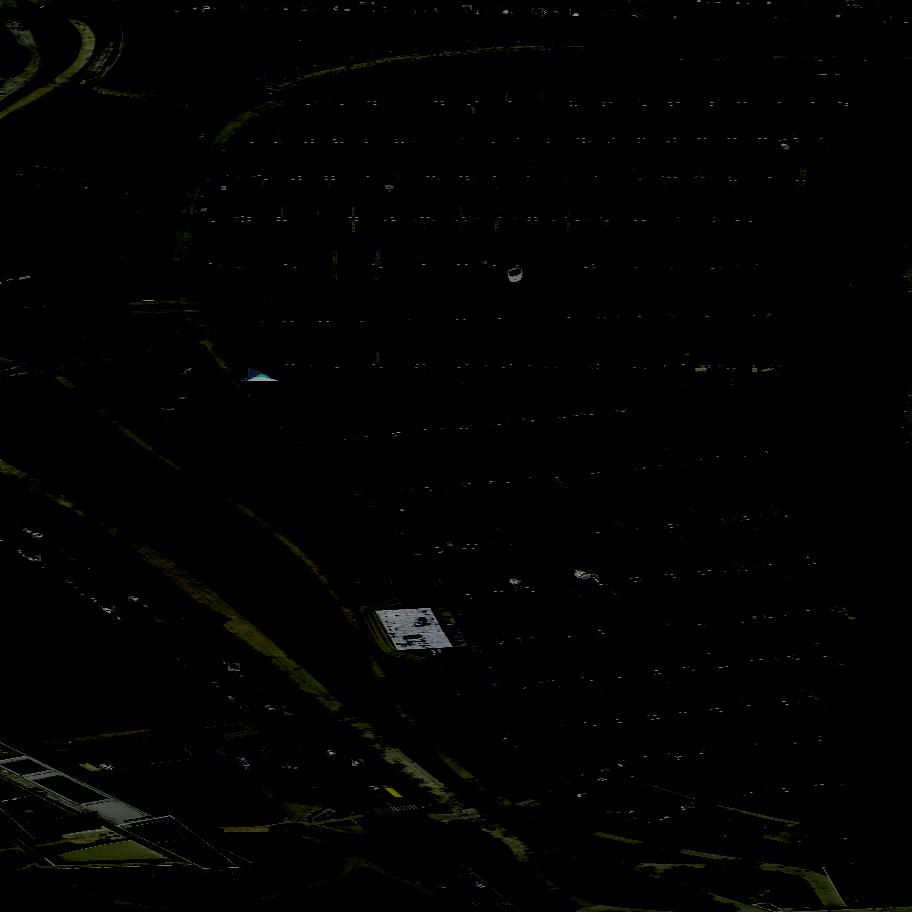ship: (503, 571, 535, 596), (504, 265, 530, 285), (381, 179, 400, 192), (573, 571, 599, 580), (612, 801, 632, 812), (472, 599, 488, 606), (782, 142, 792, 151)
small-vehicle: (240, 673, 261, 689), (106, 259, 130, 272), (607, 795, 627, 810), (592, 793, 613, 805), (136, 212, 161, 222), (156, 610, 172, 625), (384, 567, 401, 581), (628, 804, 646, 817), (183, 364, 199, 378), (66, 552, 82, 566), (4, 539, 20, 553), (111, 249, 128, 262), (722, 811, 739, 824), (251, 681, 268, 694), (388, 575, 406, 587), (730, 814, 748, 826), (11, 515, 25, 530), (328, 736, 342, 751), (54, 546, 73, 557), (622, 810, 638, 823), (526, 744, 539, 760), (199, 643, 216, 655), (92, 599, 109, 611), (146, 203, 166, 213), (489, 807, 507, 818), (318, 731, 336, 742), (278, 699, 292, 713), (113, 608, 126, 623), (220, 655, 233, 670), (368, 781, 384, 793), (192, 634, 205, 648), (198, 130, 211, 144), (211, 649, 224, 663), (652, 821, 670, 831), (474, 881, 489, 893), (64, 215, 84, 224), (16, 547, 31, 559), (620, 805, 640, 814), (585, 792, 603, 802), (456, 687, 471, 699), (102, 576, 118, 587), (87, 593, 103, 604), (25, 553, 41, 564), (282, 763, 301, 772), (127, 622, 144, 632), (34, 559, 51, 569), (284, 707, 301, 717), (268, 695, 282, 707), (891, 3, 906, 14), (120, 616, 135, 627), (203, 675, 218, 686), (366, 769, 381, 780), (638, 791, 656, 800), (128, 595, 144, 605), (585, 801, 601, 811), (151, 727, 171, 735), (96, 568, 108, 581), (124, 757, 137, 769), (352, 756, 364, 769), (242, 434, 259, 443), (373, 557, 390, 566), (45, 567, 62, 576), (657, 815, 674, 824), (706, 809, 725, 817), (161, 646, 176, 656), (43, 538, 58, 548), (358, 762, 373, 772), (721, 831, 739, 839), (139, 602, 155, 611), (157, 132, 175, 140), (60, 577, 76, 586), (614, 810, 630, 819), (640, 815, 653, 826), (228, 661, 239, 674), (515, 738, 526, 751), (812, 13, 826, 23), (262, 691, 276, 701), (762, 823, 779, 831), (23, 527, 38, 536), (746, 818, 761, 827), (732, 12, 745, 22), (427, 586, 440, 596), (2, 277, 18, 285), (738, 818, 754, 826), (188, 4, 202, 13), (233, 671, 251, 678), (572, 797, 586, 806), (343, 751, 357, 760), (461, 5, 473, 15), (442, 6, 454, 16), (504, 732, 514, 744), (580, 8, 593, 17), (470, 863, 483, 872), (532, 8, 545, 17), (598, 799, 617, 805), (147, 608, 161, 616), (372, 776, 386, 784), (5, 14, 23, 20), (109, 584, 126, 590), (148, 637, 165, 643), (802, 14, 813, 23), (834, 14, 845, 23), (861, 15, 872, 24), (231, 2, 242, 11), (502, 7, 513, 16), (492, 7, 503, 16), (312, 3, 323, 12), (219, 4, 233, 11), (241, 706, 255, 713), (722, 13, 734, 21), (181, 5, 193, 13), (681, 805, 697, 811), (294, 714, 310, 720), (266, 752, 282, 758), (165, 620, 178, 627), (773, 12, 783, 21), (563, 796, 581, 801), (642, 11, 653, 19), (200, 4, 211, 12), (251, 3, 262, 11), (520, 8, 531, 16), (453, 6, 464, 14), (643, 795, 665, 799), (74, 561, 91, 566), (577, 793, 594, 798), (309, 727, 326, 732), (824, 13, 836, 20), (835, 0, 847, 7), (186, 666, 200, 672), (304, 720, 316, 727), (783, 13, 793, 21), (542, 8, 552, 16), (332, 4, 342, 12), (292, 4, 302, 12), (211, 684, 227, 689), (216, 370, 227, 377), (56, 180, 75, 184), (83, 565, 98, 570), (75, 589, 90, 594), (613, 11, 622, 19), (872, 16, 881, 24), (118, 592, 136, 596), (713, 815, 731, 819), (642, 813, 660, 817), (747, 14, 757, 21), (663, 12, 673, 19), (602, 10, 612, 17), (403, 6, 413, 13), (101, 607, 115, 612), (171, 653, 185, 658), (264, 705, 278, 710), (753, 823, 770, 827), (598, 808, 615, 812), (172, 6, 183, 12), (482, 9, 493, 15), (56, 566, 69, 571), (172, 627, 188, 631), (33, 534, 49, 538), (591, 805, 607, 809), (673, 10, 682, 17), (826, 0, 835, 7), (262, 3, 271, 10), (423, 7, 432, 14), (272, 3, 281, 10), (372, 5, 381, 12), (763, 14, 773, 20), (631, 11, 641, 17), (621, 10, 631, 16), (852, 14, 862, 20), (510, 894, 522, 899), (183, 633, 195, 638), (882, 16, 892, 22), (472, 7, 484, 12), (393, 5, 403, 11), (281, 3, 291, 9), (413, 564, 423, 570), (100, 765, 114, 769), (112, 763, 126, 767), (226, 696, 240, 700), (210, 5, 221, 10), (55, 573, 66, 578), (326, 751, 337, 756), (715, 13, 724, 19), (705, 13, 714, 19), (846, 0, 855, 6), (413, 7, 422, 13), (178, 661, 191, 665), (645, 821, 662, 824), (874, 2, 884, 7), (382, 5, 392, 10), (653, 11, 661, 17), (591, 10, 599, 16), (302, 5, 310, 11), (628, 817, 644, 820), (657, 799, 673, 802), (352, 5, 361, 10), (336, 747, 347, 751), (155, 643, 169, 646), (234, 701, 248, 704), (682, 13, 690, 18), (553, 9, 561, 14), (236, 680, 246, 684), (706, 829, 719, 832), (68, 584, 81, 587), (219, 691, 232, 694), (693, 13, 702, 17), (342, 6, 351, 10), (197, 673, 209, 676), (564, 9, 571, 14), (513, 8, 520, 13), (434, 7, 441, 12), (606, 811, 623, 813), (794, 15, 802, 19), (240, 4, 248, 8), (363, 6, 371, 10), (57, 739, 73, 741), (110, 300, 116, 304), (573, 10, 581, 13), (324, 5, 331, 8)
